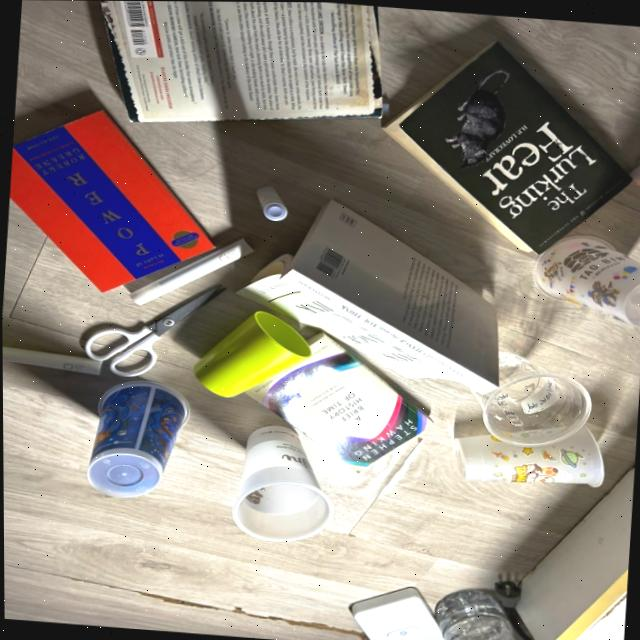Book: (383, 41, 631, 253), (238, 199, 497, 393), (9, 111, 214, 290), (100, 1, 380, 122), (247, 332, 427, 471)
HighLight Pen: (130, 238, 252, 304), (2, 346, 101, 374), (256, 186, 287, 220), (630, 163, 640, 184)
Plastic Cup: (231, 425, 332, 541), (87, 380, 187, 497), (474, 350, 591, 445), (533, 235, 640, 327), (453, 425, 603, 486)
Scissors: (85, 285, 221, 376)
WaterGlass: (193, 310, 310, 396)
